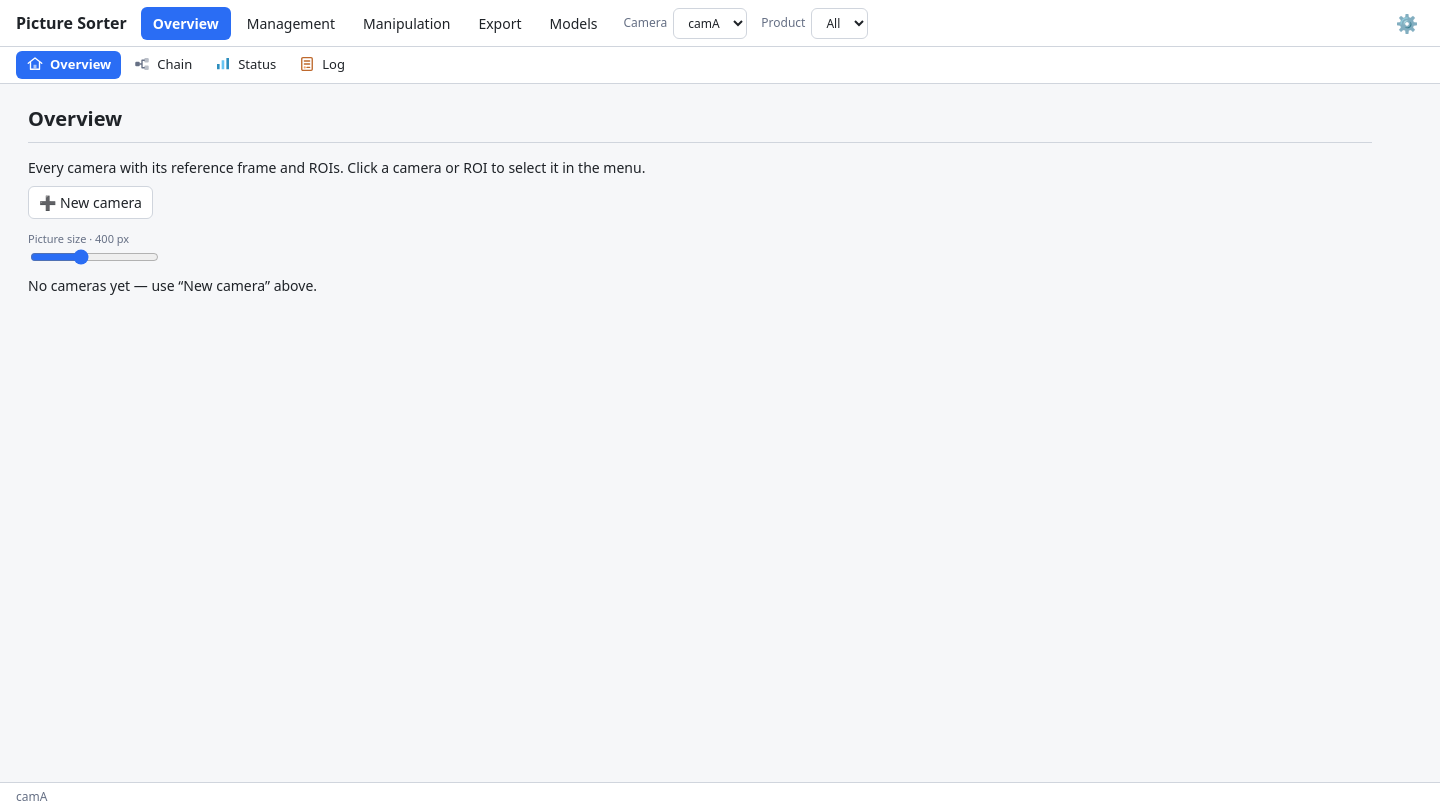
Test: the status bar names the camera and product being worked on
Select "P2" in the dropdown labelled "Product". click: x=840, y=23
box: [811,8,868,38]
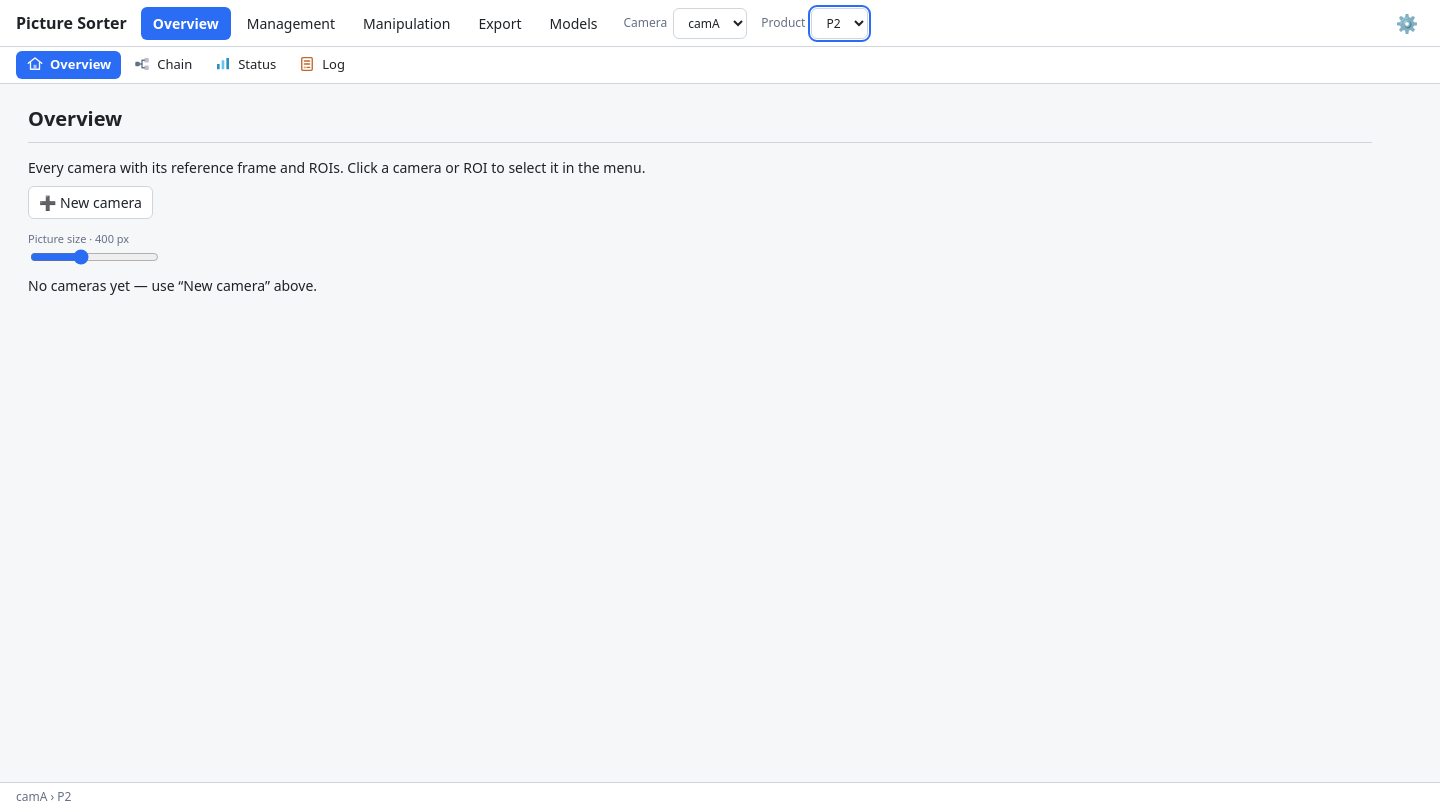
expect the text with test id "status-where" reads "camA › P2": met, box [16,788,72,804]
